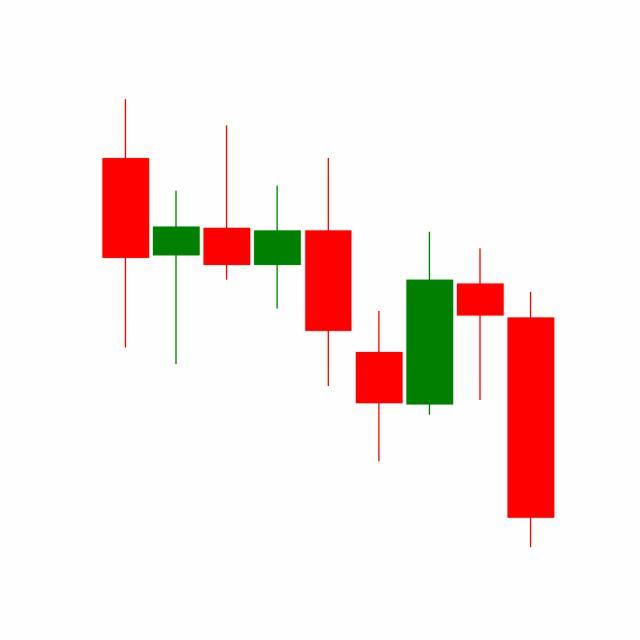Hikkake Pattern: (302, 154, 555, 549)
